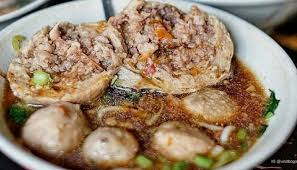bakso: (11, 4, 267, 168)
